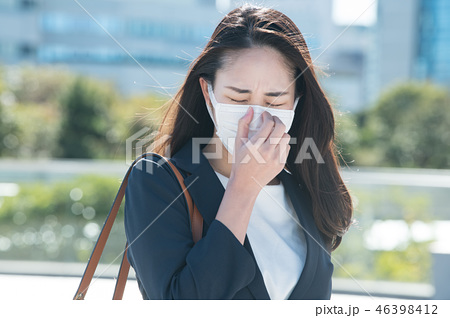mask: (214, 108, 297, 166)
